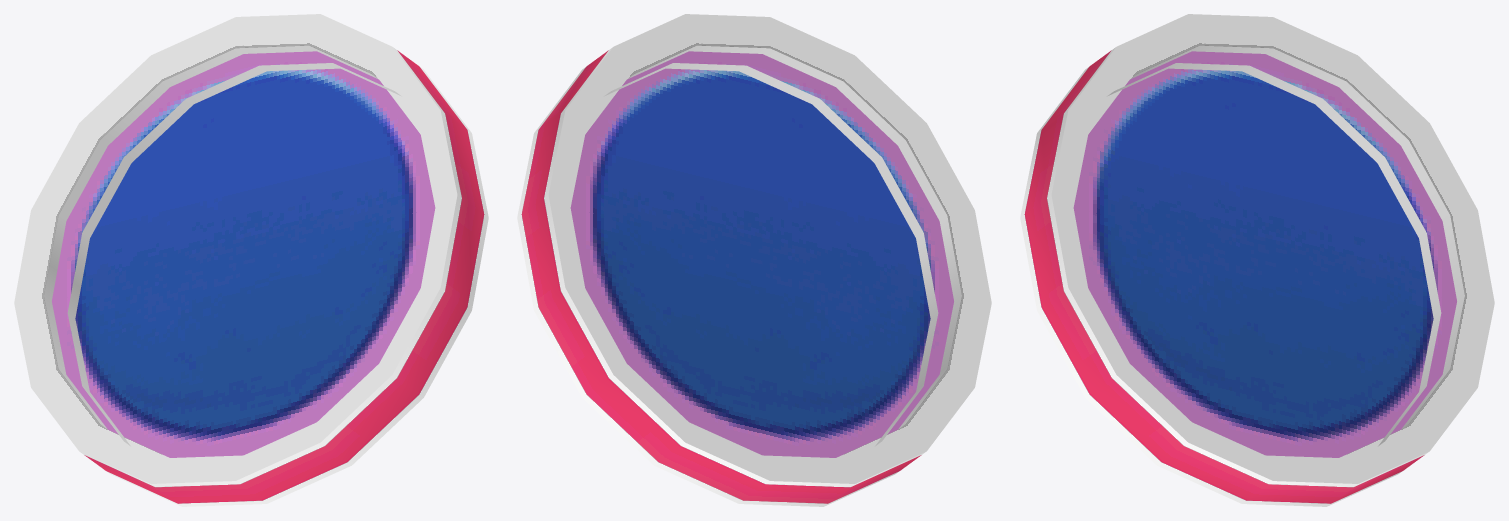
Rendered from ps2_save-icons_kyoukaramaouhajimarinotabi.glb.
3 renders of one model, left to right at view 1: azimuth 30°, elevation 25°; view 2: azimuth 150°, elevation 25°; view 3: azimuth 330°, elevation 25°, orthographic.
Visible parts, largest first — view 1: icon1.ico; view 2: icon1.ico; view 3: icon1.ico.
Boxes of the visible parts, x1=… form: icon1.ico: x1=14, y1=14, x2=488, y2=506; icon1.ico: x1=517, y1=14, x2=991, y2=506; icon1.ico: x1=1020, y1=14, x2=1494, y2=506.
Size of the model in its own units: 4.04 by 4.04 by 0.4946.
1 material, 1 textured.
